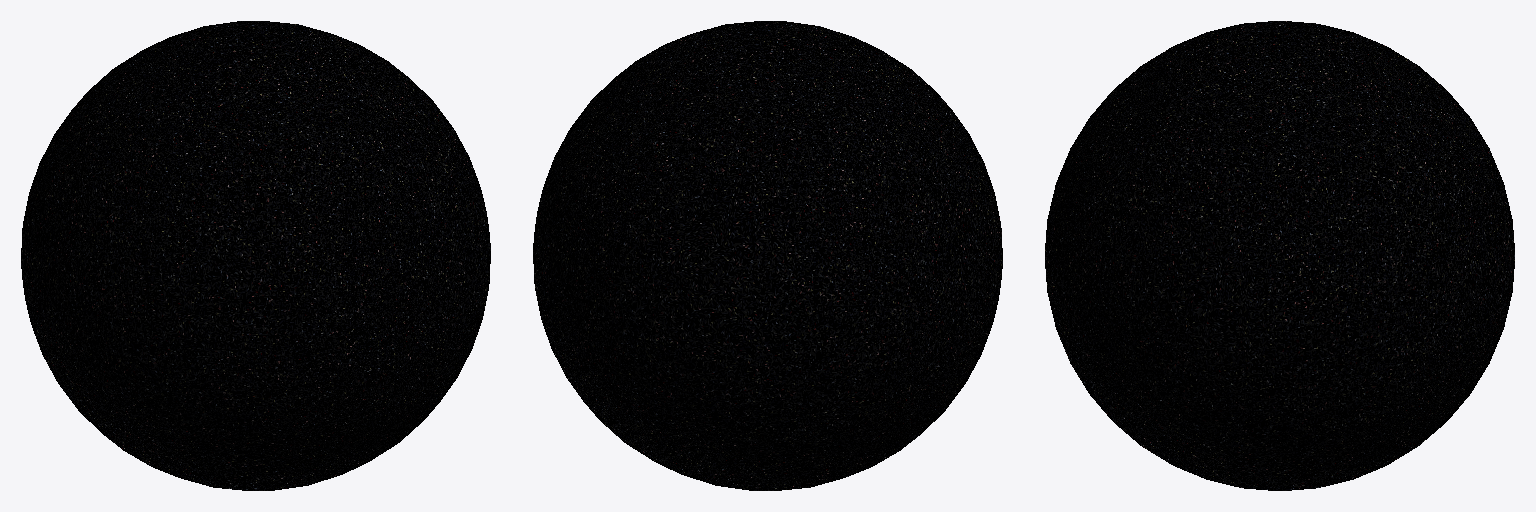
3 views of the same model, side by side, from view 1: azimuth 30°, elevation 25°; view 2: azimuth 150°, elevation 25°; view 3: azimuth 270°, elevation 25° (orthographic).
Parts seen in each view (by area): view 1: Icosphere; view 2: Icosphere; view 3: Icosphere.
Boxes of the visible parts, x1=… form: Icosphere: x1=21, y1=21, x2=490, y2=490; Icosphere: x1=533, y1=21, x2=1002, y2=490; Icosphere: x1=1045, y1=21, x2=1514, y2=490.
Size of the model in its own units: 1369 by 1369 by 1369.
Materials: 1 (1 with a texture image).